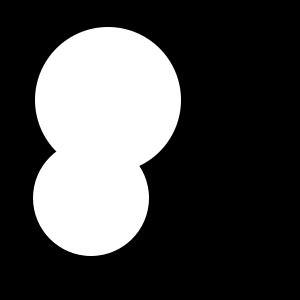rectangle: (35, 27, 181, 173), (33, 140, 149, 256), (111, 74, 129, 92)
